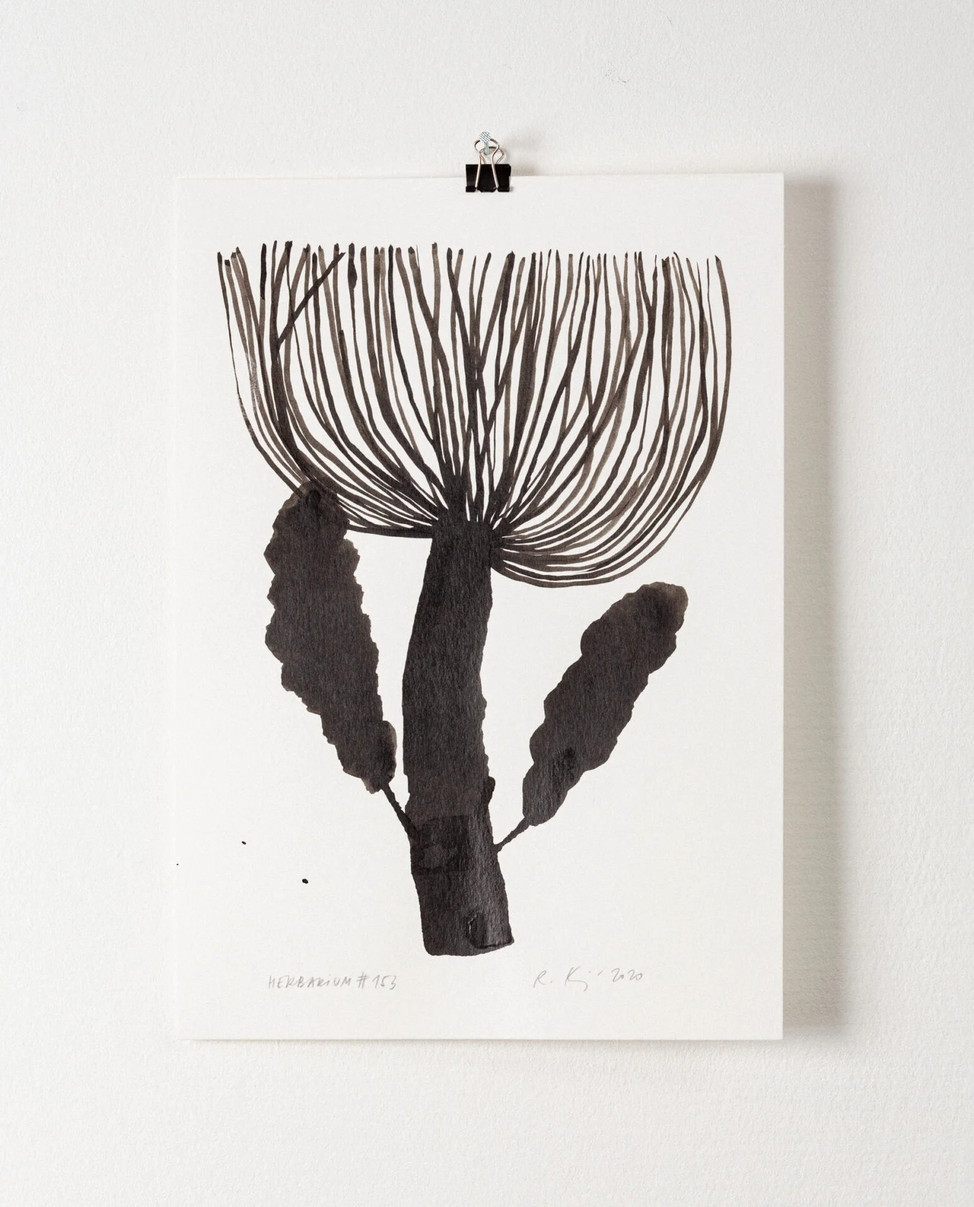painting: (212, 234, 737, 960)
